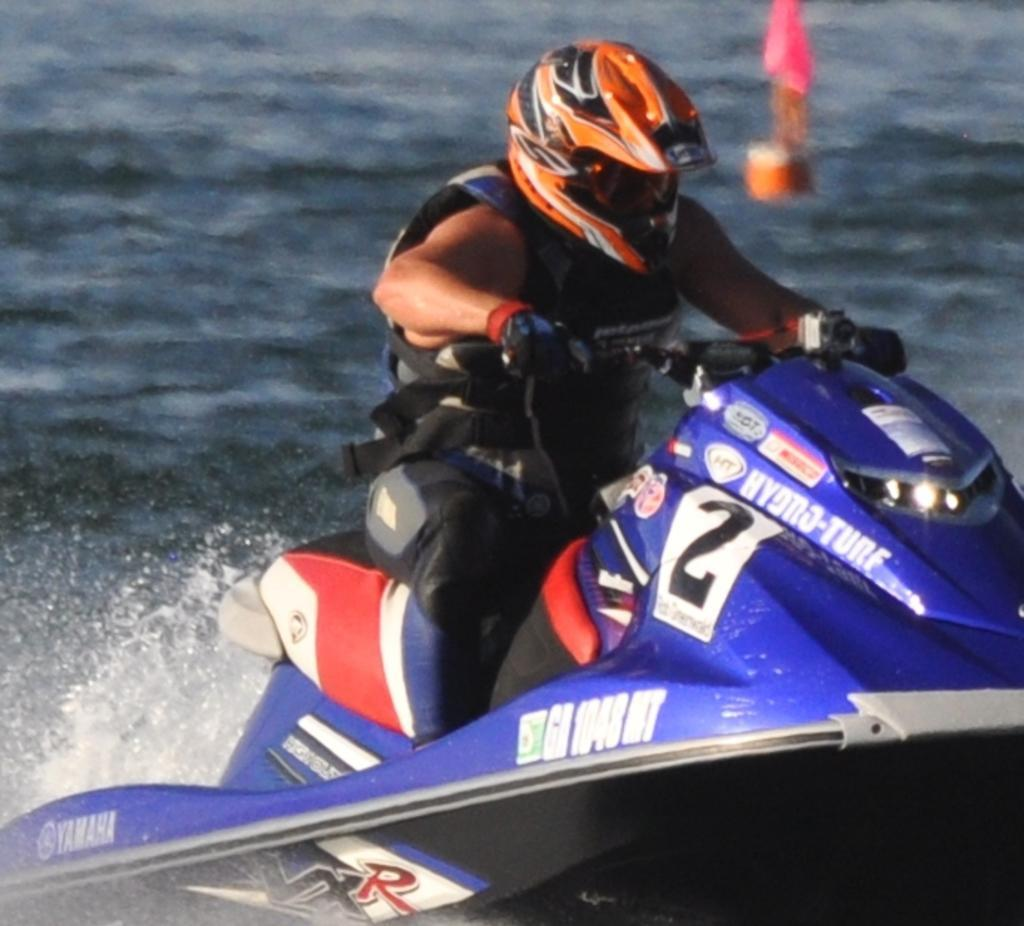helmet: (505, 37, 719, 283)
